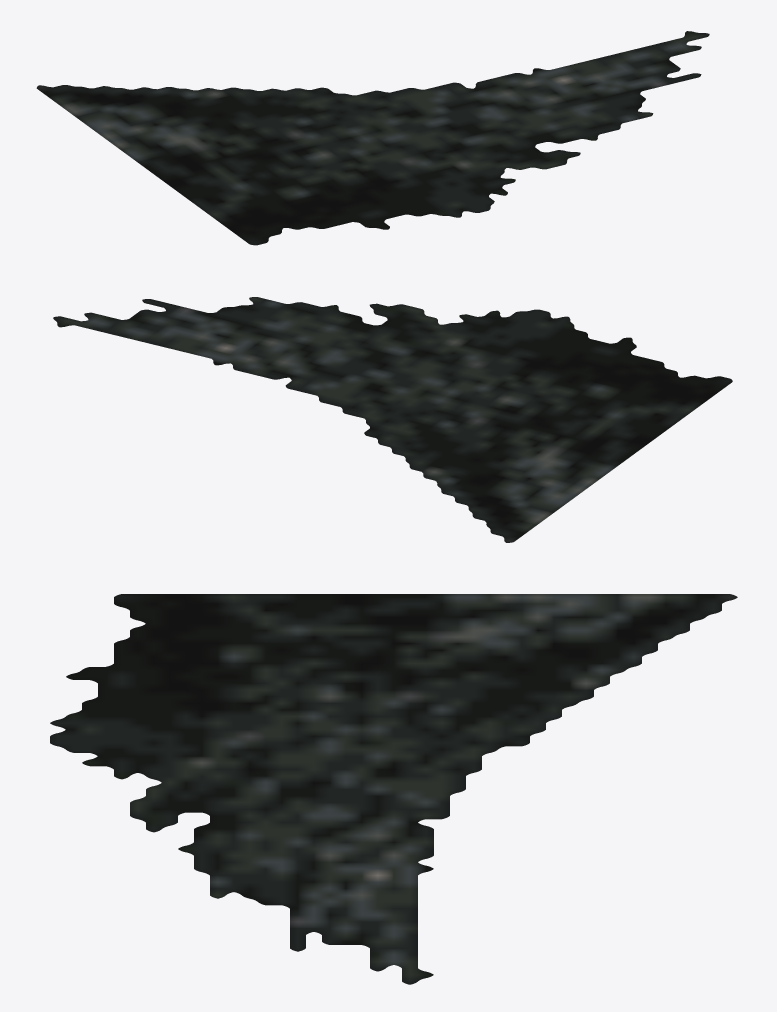
File: SM_EC_Tree_Part_Card_02.fbx
The picture shows the model from 3 angles, top to bottom: view 1: azimuth 30°, elevation 25°; view 2: azimuth 150°, elevation 25°; view 3: azimuth 270°, elevation 25°; orthographic projection. The views are drawn at different scales.
Parts seen in each view (by area): view 1: SM_EC_Tree_Part_Card_02; view 2: SM_EC_Tree_Part_Card_02; view 3: SM_EC_Tree_Part_Card_02.
Part boxes in pixels (bbox=[...]): SM_EC_Tree_Part_Card_02: bbox=[36, 31, 709, 245]; SM_EC_Tree_Part_Card_02: bbox=[53, 297, 732, 542]; SM_EC_Tree_Part_Card_02: bbox=[50, 594, 737, 984].
Bounding box in the file's own units: 0.96 × 0.7312 × 4.07e-10.
